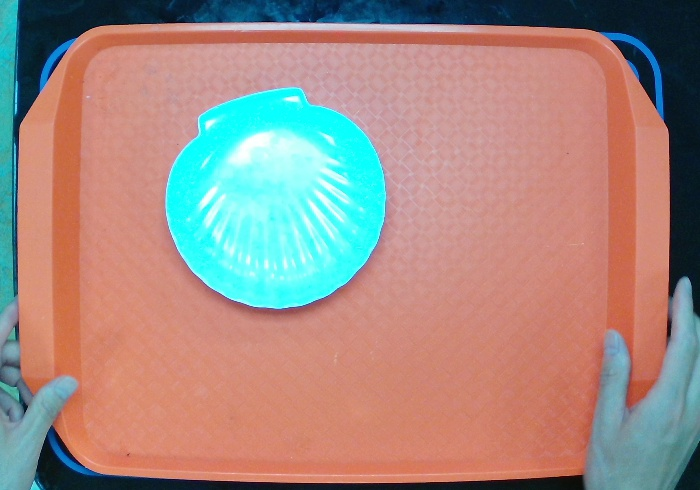RJxy-Bei_Ke_Wan: (160, 82, 390, 316)
